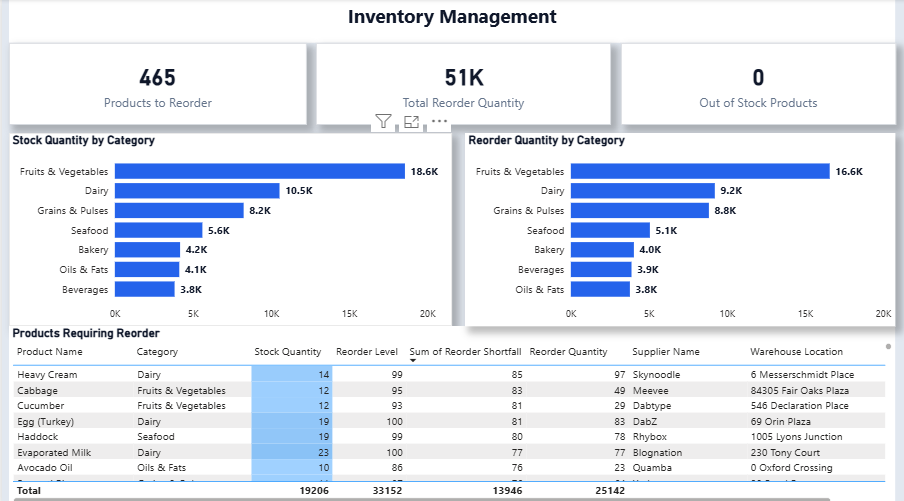

Layout of this report page (visuals, bound fields, positions):
{"tool":"powerbi","page":{"name":"Inventory Management","canvas":[1280,720],"ordinal":1},"visuals":[{"type":"textbox","box":[10.1,0,1256.5,62.2],"z":0},{"type":"card","fields":{"Values":["Grocery_Inventory_and_Sales_Dataset.Products to Reorder"]},"box":[10.1,62.2,421.6,115.9],"z":1000},{"type":"card","fields":{"Values":["Grocery_Inventory_and_Sales_Dataset.Total Reorder Quantity"]},"box":[445.1,62.2,418.3,115.9],"z":2000},{"type":"card","fields":{"Values":["Grocery_Inventory_and_Sales_Dataset.Out of Stock Products"]},"box":[876.9,62.2,389.7,115.9],"z":3000},{"type":"clusteredBarChart","title":"Stock Quantity by Category","fields":{"Y":["Sum(Grocery_Inventory_and_Sales_Dataset.Stock_Quantity)"],"Category":["Grocery_Inventory_and_Sales_Dataset.Category"]},"box":[10.1,189.8,628.2,273.8],"z":4000},{"type":"tableEx","title":"Products Requiring Reorder","fields":{"Values":["Grocery_Inventory_and_Sales_Dataset.Product_Name","Grocery_Inventory_and_Sales_Dataset.Category","Sum(Grocery_Inventory_and_Sales_Dataset.Stock_Quantity)","Sum(Grocery_Inventory_and_Sales_Dataset.Reorder_Level)","Sum(Grocery_Inventory_and_Sales_Dataset.Reorder_Quantity)","Grocery_Inventory_and_Sales_Dataset.Supplier_Name","Grocery_Inventory_and_Sales_Dataset.Warehouse_Location"]},"box":[10.1,463.6,1256.5,257],"z":5000},{"type":"clusteredBarChart","title":"Reorder Quantity by Category","fields":{"Category":["Grocery_Inventory_and_Sales_Dataset.Category"],"Y":["Sum(Grocery_Inventory_and_Sales_Dataset.Reorder_Quantity)"]},"box":[656.8,189.8,609.8,273.8],"z":6000}]}

Visuals, with their boxes in screenshot pixels (x1, y1, x2, y2), scaled from the page's 1280x720 canvas onto the 904x501 screenshot:
textbox: left=7, top=0, right=895, bottom=43
card - Grocery_Inventory_and_Sales_Dataset.Products to Reorder: left=7, top=43, right=305, bottom=124
card - Grocery_Inventory_and_Sales_Dataset.Total Reorder Quantity: left=314, top=43, right=610, bottom=124
card - Grocery_Inventory_and_Sales_Dataset.Out of Stock Products: left=619, top=43, right=895, bottom=124
"Stock Quantity by Category" clusteredBarChart: left=7, top=132, right=451, bottom=323
"Products Requiring Reorder" tableEx: left=7, top=323, right=895, bottom=500
"Reorder Quantity by Category" clusteredBarChart: left=464, top=132, right=895, bottom=323
